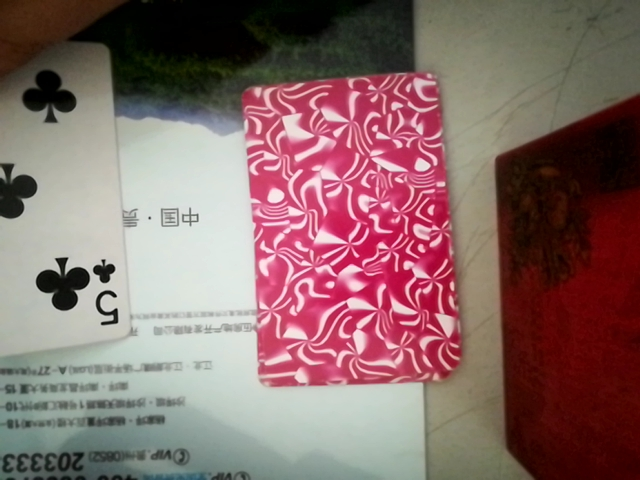mh 5: (0, 26, 129, 369)
